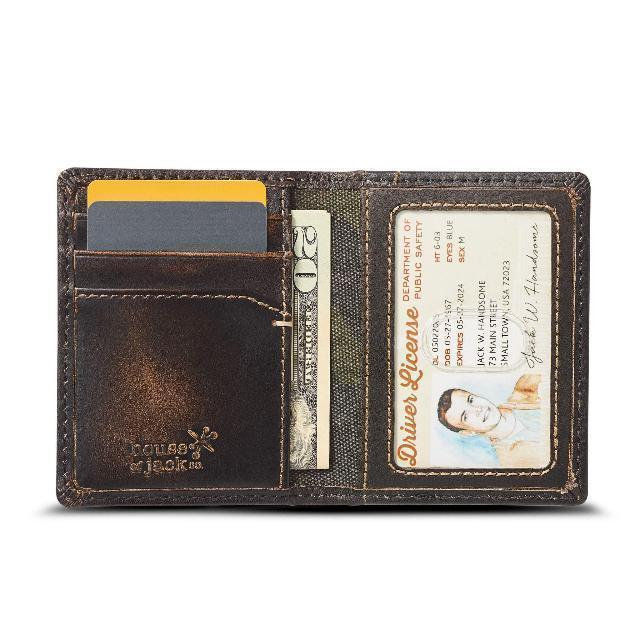wallet: (56, 165, 586, 511)
